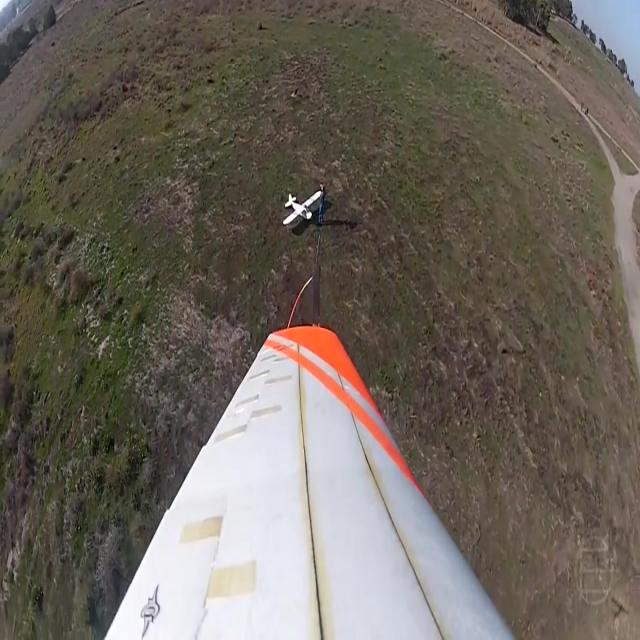iha: (282, 189, 323, 226)
